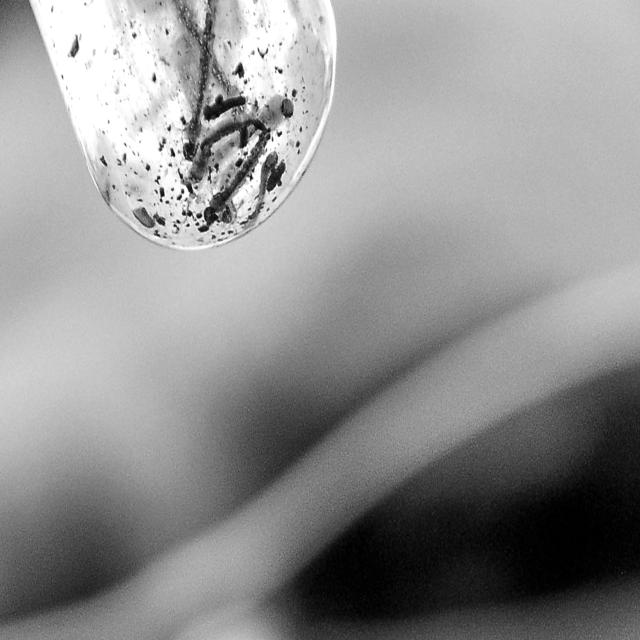larvas: (203, 132, 272, 227), (192, 116, 260, 178), (187, 37, 210, 152), (172, 1, 206, 43), (262, 149, 278, 208), (207, 95, 246, 118), (266, 90, 294, 122)
